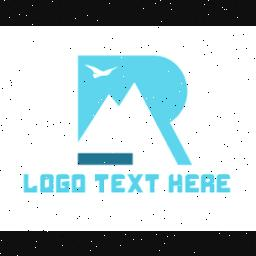r: (198, 166, 218, 196)
